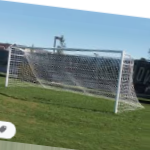goals: (3, 44, 143, 117)
